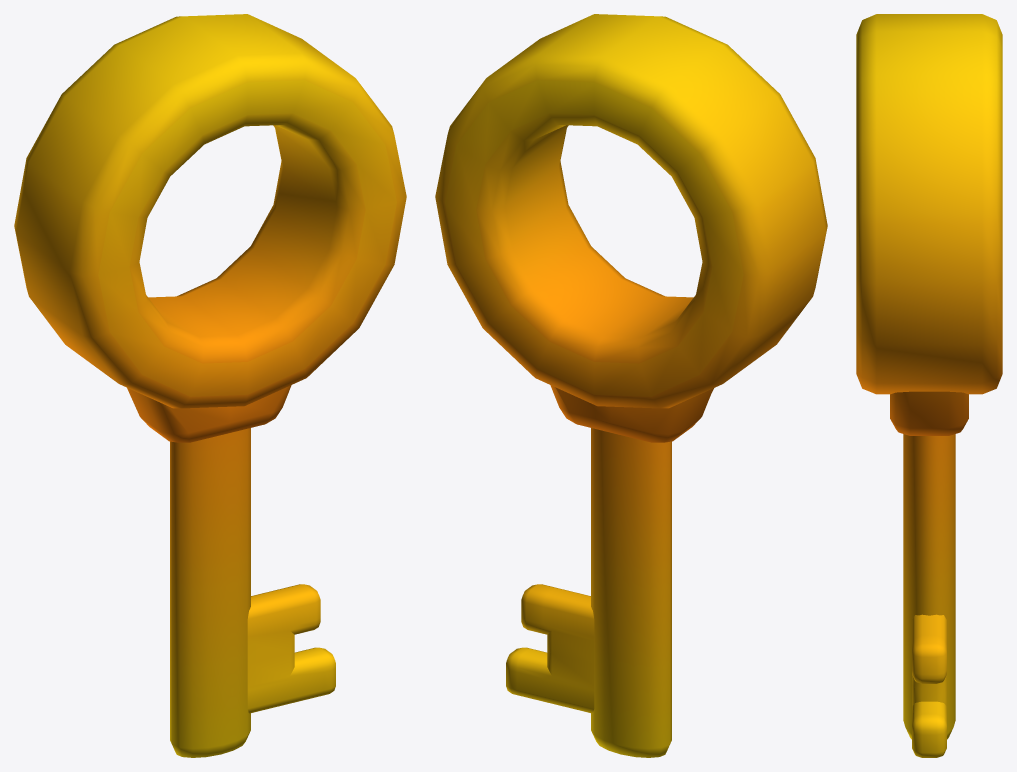
File: Key.fbx
The picture shows the model from 3 angles, left to right: view 1: azimuth 30°, elevation 25°; view 2: azimuth 150°, elevation 25°; view 3: azimuth 270°, elevation 25°; orthographic projection.
Visible parts, largest first — view 1: Key; view 2: Key; view 3: Key.
Part boxes in pixels (x1,y1,x2,y2): Key: (14, 14, 406, 757); Key: (435, 14, 827, 757); Key: (856, 14, 1002, 757).
Bounding box in the file's own units: 11.59 × 23.64 × 4.45.
